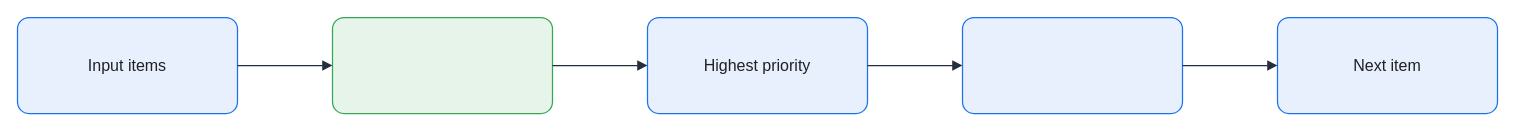
This 1516x132 diagram has some shape labels left out. The shapes that lost their labels are listed below. From the top down, each one's box as (x1, y1, x2, y2) in pixels, then its label:
(331, 16, 553, 114): Binary heap
(961, 16, 1183, 114): Pop operation
